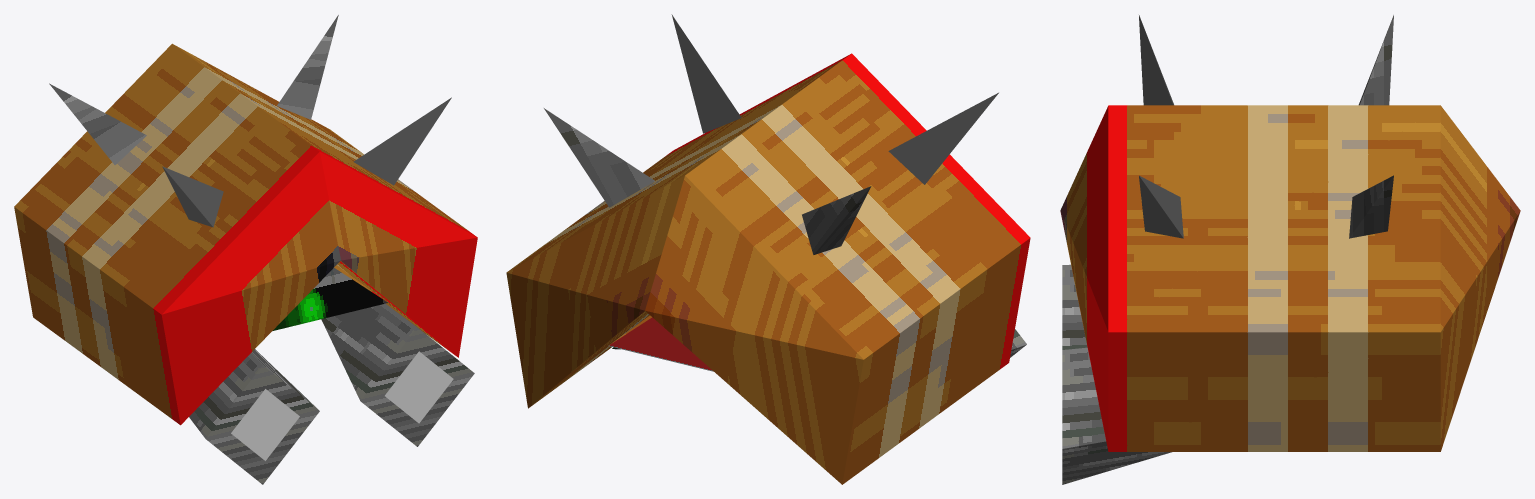
Rendered from model_084_robot.glb.
3 views of the same model, side by side, from view 1: azimuth 30°, elevation 25°; view 2: azimuth 150°, elevation 25°; view 3: azimuth 270°, elevation 25° (orthographic). The views are drawn at different scales.
Visible parts, largest first — view 1: model_084; view 2: model_084; view 3: model_084.
Part boxes in pixels (x1=…): model_084: x1=14, y1=15, x2=477, y2=484; model_084: x1=506, y1=14, x2=1030, y2=484; model_084: x1=1060, y1=15, x2=1520, y2=484.
Size of the model in its own units: 8.91 by 8.35 by 10.
5 materials, 4 textured.
